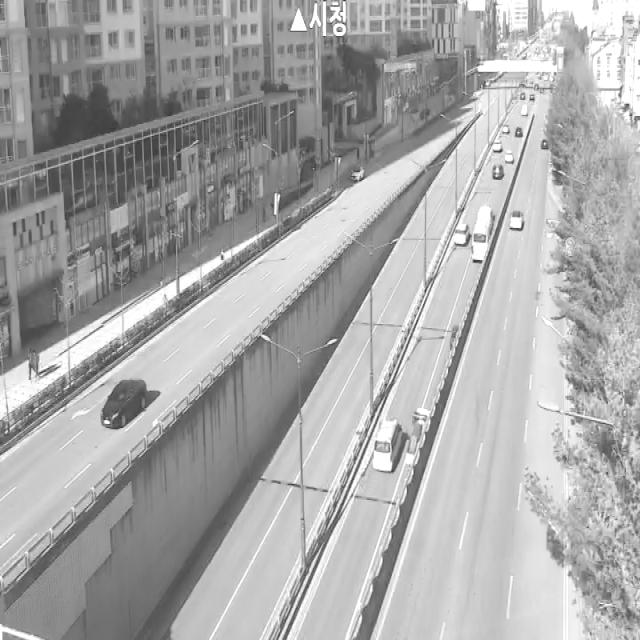Bus: (471, 206, 493, 262)
Car: (100, 379, 146, 430), (373, 419, 404, 473), (404, 408, 432, 467), (454, 223, 469, 244), (509, 210, 524, 230), (349, 165, 365, 182), (492, 164, 503, 180), (493, 140, 502, 152), (505, 150, 513, 162), (515, 126, 522, 138), (502, 124, 510, 134), (540, 139, 548, 149)
